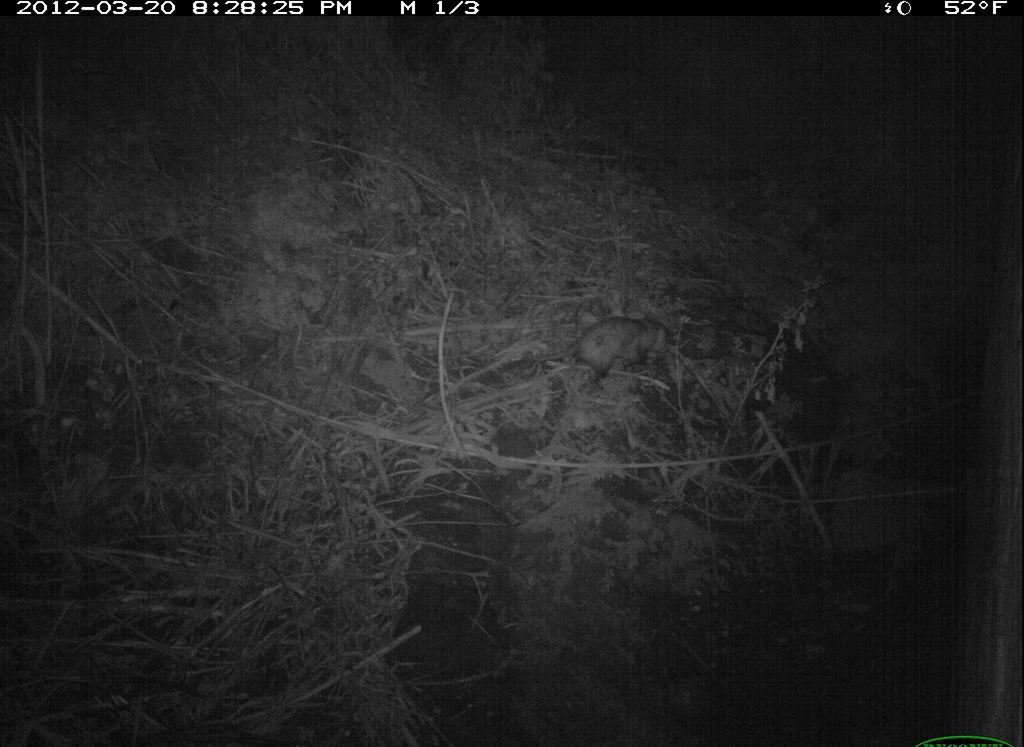opossum: (566, 308, 688, 388)
